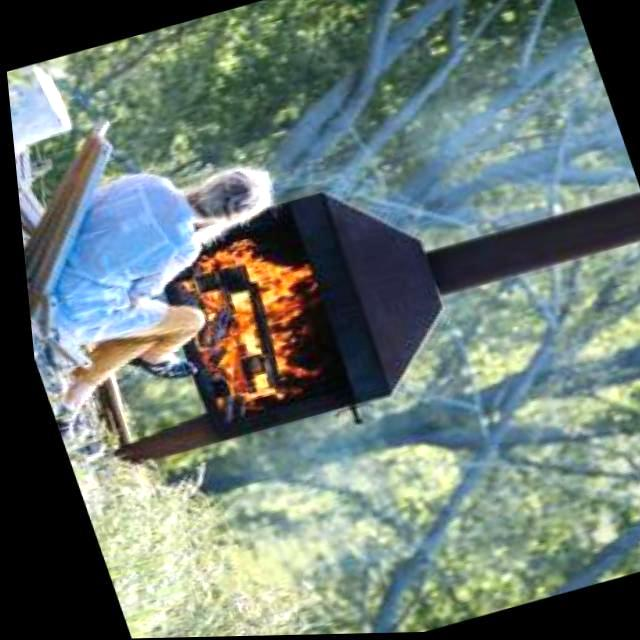fire: (142, 214, 356, 423)
